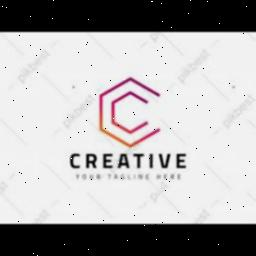a: (116, 152, 130, 172)
c: (67, 150, 83, 172)
e: (98, 154, 116, 172), (175, 153, 187, 171)
i: (146, 150, 158, 170)
r: (84, 154, 100, 174)
t: (131, 152, 147, 170)
v: (158, 153, 172, 171)
